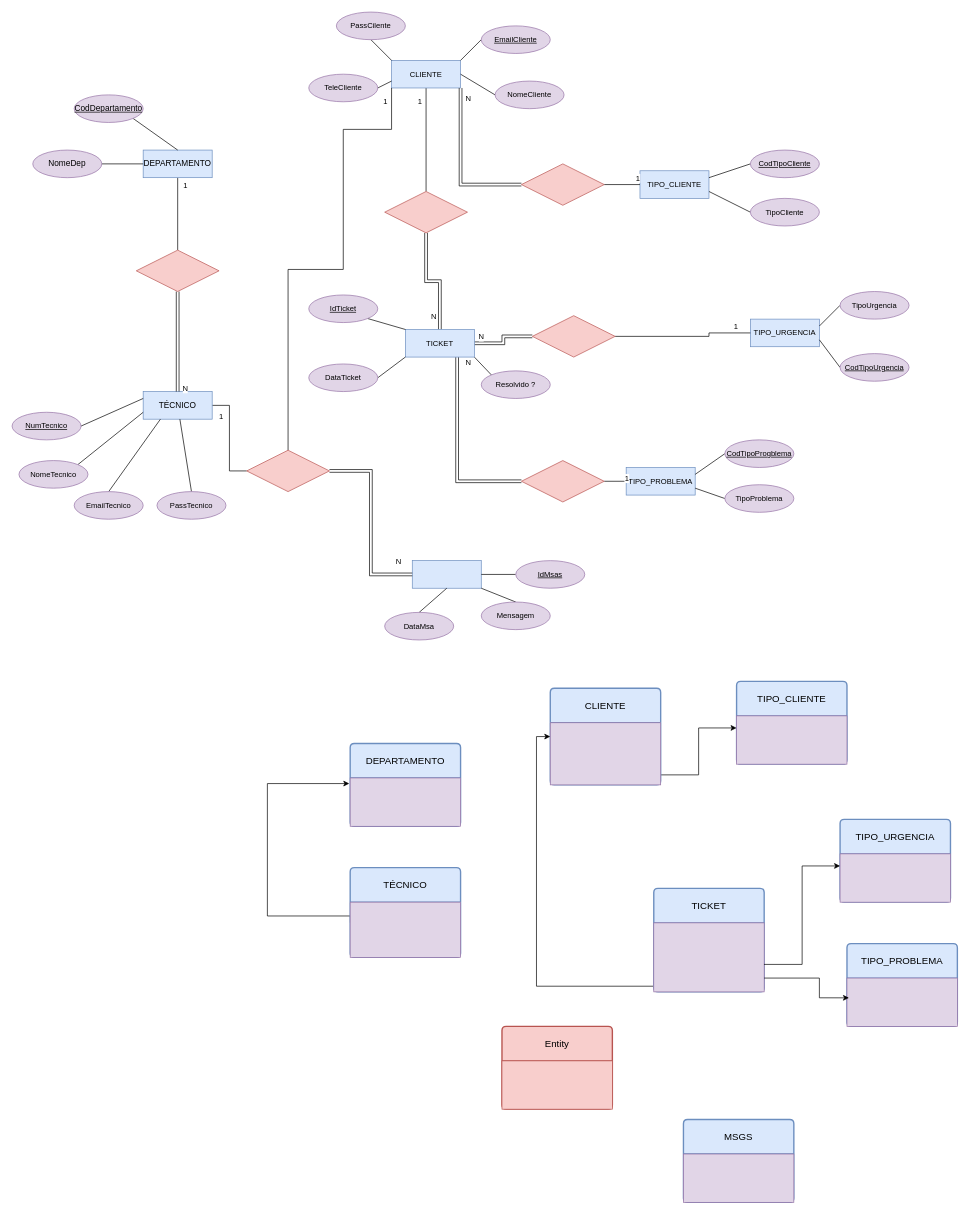
This 970x1215 diagram has some shape labels left out. Here are the shapes that lost their labels. From the top down, the box of each, then its label:
(521, 163, 604, 205): É_CLIENTE
(384, 191, 467, 233): CRIOU
(136, 249, 219, 292): PERTENCE_A
(532, 315, 615, 357): É_URGENCIA
(246, 450, 329, 492): ESCREVEU
(521, 460, 604, 502): É_PROBLEMA
(412, 560, 481, 588): MSAS
(550, 722, 661, 785): EmailCliente PassCliente NomeCliente TeleCliente CodTipoCliente
(736, 715, 847, 764): CodTipoCliente TipoCliente
(349, 777, 461, 826): CodDepartamento NomeDep
(839, 853, 950, 902): CodTipoUrgencia TipoUrgencia
(349, 901, 461, 957): NumTecnico CodDep NomeTecnico EmailTecnico PassTecnico
(653, 922, 764, 992): IdTicket DataTicket Resolvido ? CodTipoUrgen CodTipoProb EmailCli
(846, 977, 957, 1026): CodTipoProblema TipoProblema
(501, 1060, 612, 1109): IdMsas Ticket Tecnico Cliente
(683, 1153, 794, 1202): IdMsas DataMsg Mensagem
